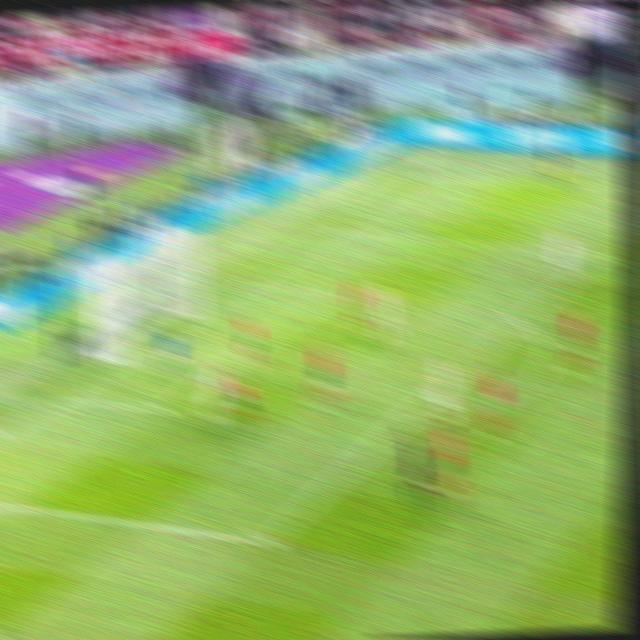bigarea_bottom_inner: (249, 523, 284, 562)
bigarea_top_inner: (586, 241, 615, 264)
bigarea_top_outter: (322, 219, 348, 246)
bottom_arc_area_intersection: (388, 411, 417, 437)
corner: (413, 170, 439, 184)
smallarea_bottom_inner: (147, 396, 178, 426)
smallarea_bottom_outter: (49, 385, 74, 413)
smallarea_top_inner: (321, 277, 349, 309)
smallarea_top_outter: (236, 273, 260, 300)
top_arc_area_intersection: (507, 313, 534, 334)
